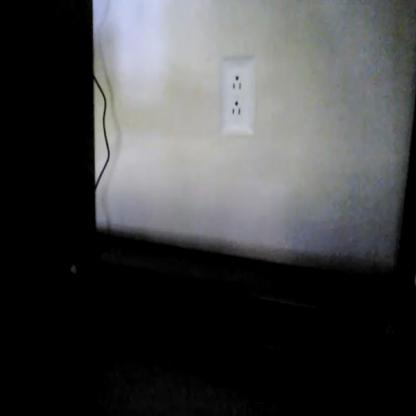OUTLET: (221, 58, 253, 138)
